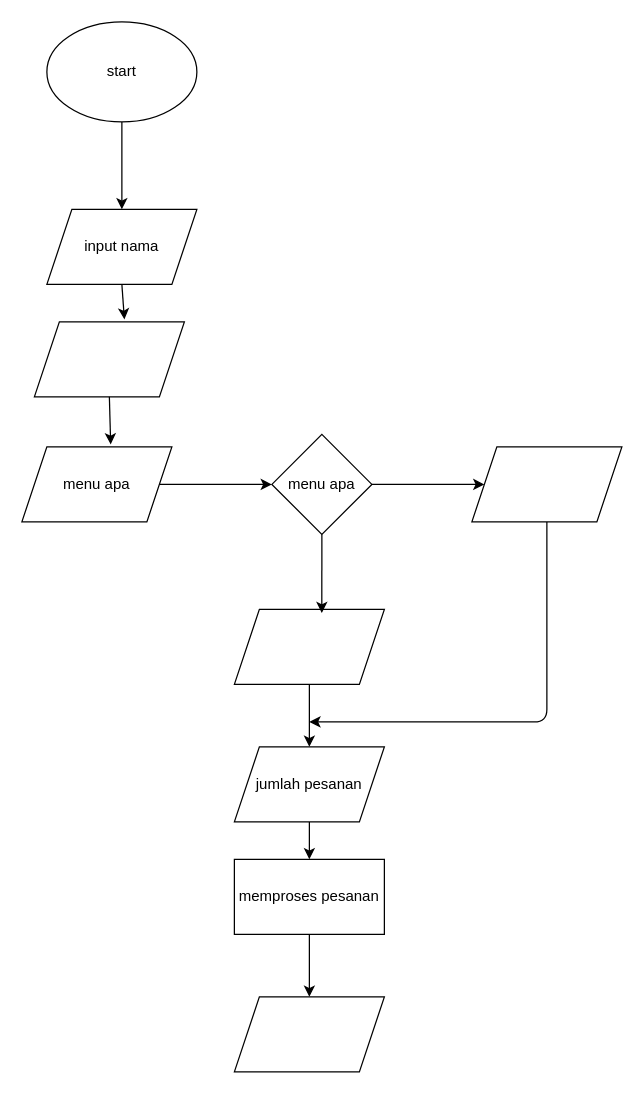
Some shapes in this 644 by 1094 pixel diagram are drawn without their labels. The centre of each missing label's shape, as x and y in pixels:
"masukan no telp" goes at pixel 108 359.
"pesan makanan" goes at pixel 546 484.
"pesan minuman" goes at pixel 308 646.
